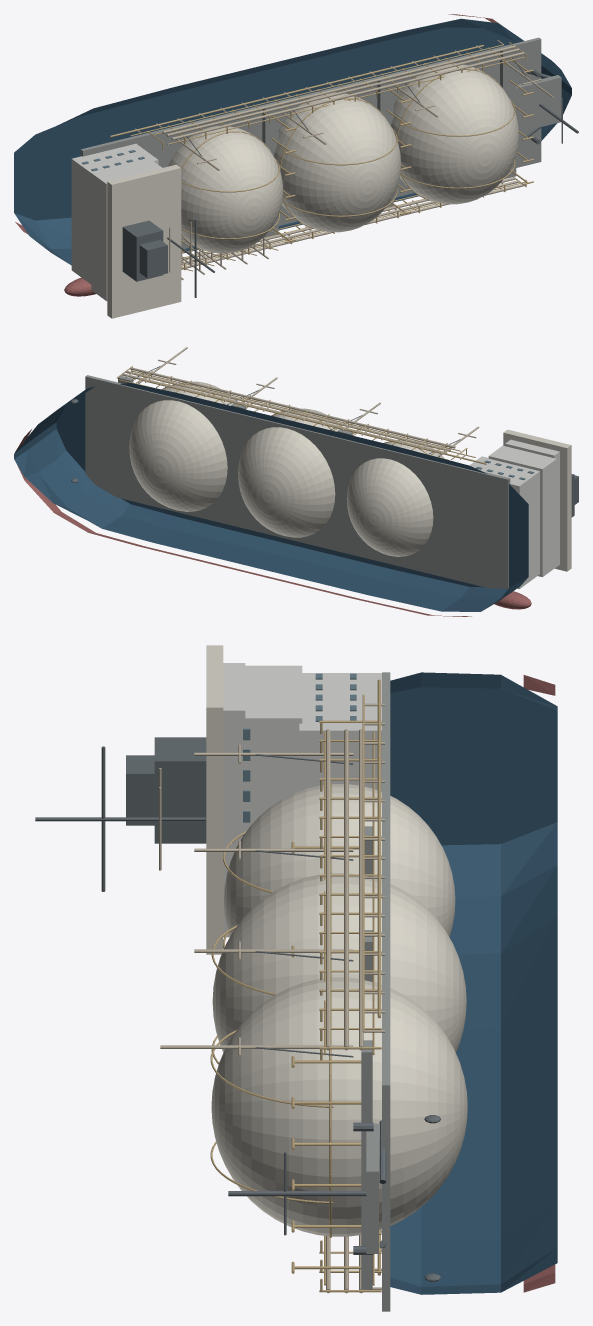
Rendered from LNG_carrier_3D_mesh.glb.
The picture shows the model from 3 angles, top to bottom: view 1: azimuth 30°, elevation 25°; view 2: azimuth 150°, elevation 25°; view 3: azimuth 270°, elevation 25°; orthographic projection. The views are drawn at different scales.
Visible parts, largest first — view 1: part_0000, part_0318, part_0215, part_0112, part_0054, part_0010, part_0051, part_0052, part_0589, part_0055, part_0464, part_0462 (+12 smaller); view 2: part_0010, part_0000, part_0318, part_0215, part_0112, part_0052, part_0051, part_0054, part_0464, part_0053, part_0031, part_0463 (+4 smaller); view 3: part_0000, part_0318, part_0215, part_0112, part_0052, part_0051, part_0010, part_0054, part_0055, part_0053, part_0529, part_0106 (+8 smaller).
Part boxes in pixels (x1,y1,x2,y2): part_0000: [14, 18, 571, 265]; part_0318: [391, 63, 518, 204]; part_0215: [274, 92, 400, 232]; part_0112: [168, 126, 283, 253]; part_0054: [107, 164, 181, 318]; part_0010: [80, 37, 541, 248]; part_0051: [71, 143, 158, 284]; part_0052: [91, 158, 161, 301]; part_0589: [516, 75, 561, 131]; part_0055: [122, 220, 163, 281]; part_0464: [171, 52, 524, 140]; part_0462: [162, 45, 515, 133]; part_0010: [85, 375, 510, 588]; part_0000: [14, 383, 528, 611]; part_0318: [129, 381, 235, 511]; part_0215: [238, 408, 342, 537]; part_0112: [346, 439, 444, 556]; part_0052: [488, 445, 556, 577]; part_0051: [469, 456, 539, 588]; part_0054: [503, 429, 571, 571]; part_0464: [130, 367, 455, 448]; part_0053: [505, 439, 559, 567]; part_0031: [141, 379, 486, 464]; part_0463: [125, 370, 450, 451]; part_0000: [390, 672, 557, 1294]; part_0318: [211, 977, 467, 1236]; part_0215: [212, 873, 466, 1052]; part_0112: [224, 784, 455, 936]; part_0052: [245, 665, 302, 830]; part_0051: [299, 673, 381, 791]; part_0010: [382, 672, 390, 1311]; part_0054: [206, 645, 223, 954]; part_0055: [154, 737, 206, 843]; part_0053: [223, 663, 245, 937]; part_0529: [361, 1040, 372, 1289]; part_0106: [126, 755, 154, 825].
Size of the model in its own units: 96 by 27.6 by 46.
